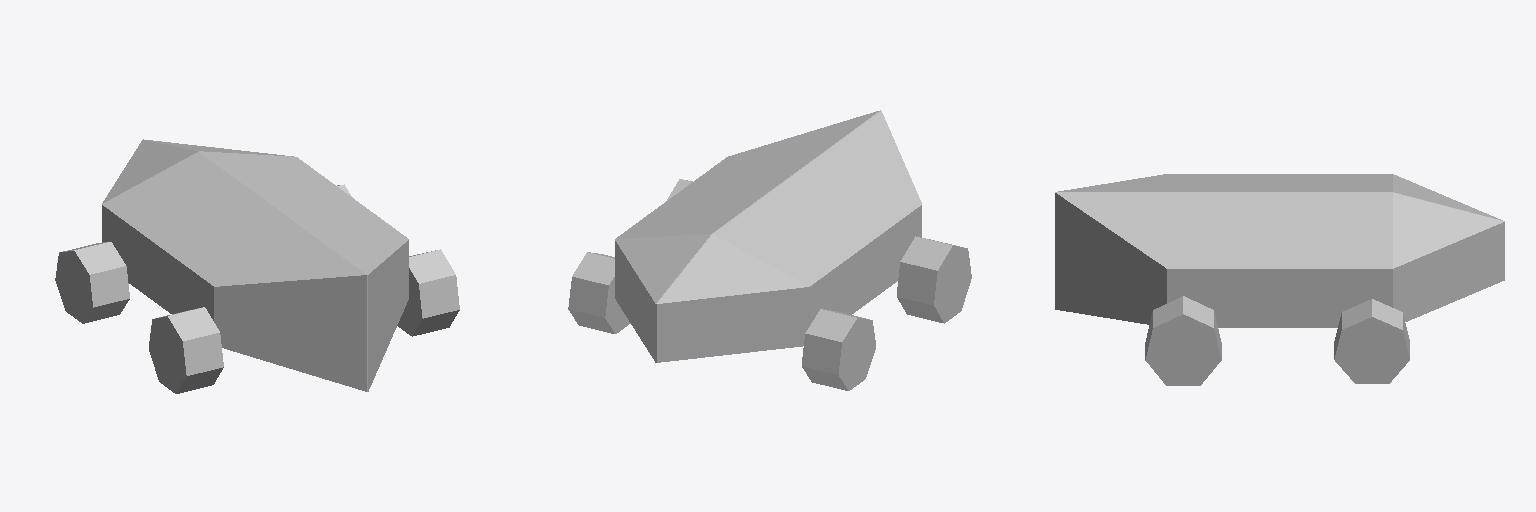
File: car.obj
The picture shows the model from 3 angles: view 1: azimuth 30°, elevation 25°; view 2: azimuth 150°, elevation 25°; view 3: azimuth 270°, elevation 25°; orthographic projection.
Parts seen in each view (by area): view 1: Cube; view 2: Cube; view 3: Cube.
Part boxes in pixels (x1,y1,x2,y2): Cube: (55, 139, 459, 393); Cube: (568, 110, 971, 390); Cube: (1055, 174, 1504, 385).
Bounding box in the file's own units: 1.4 × 0.6233 × 2.